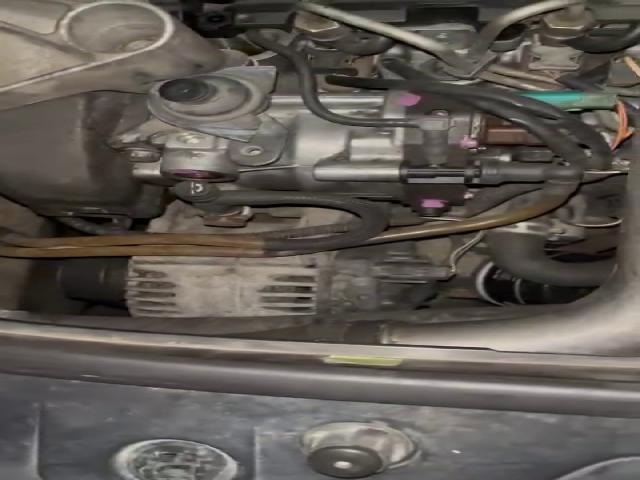alternator: (126, 253, 331, 316)
high_pressure_pump: (110, 91, 488, 215)
